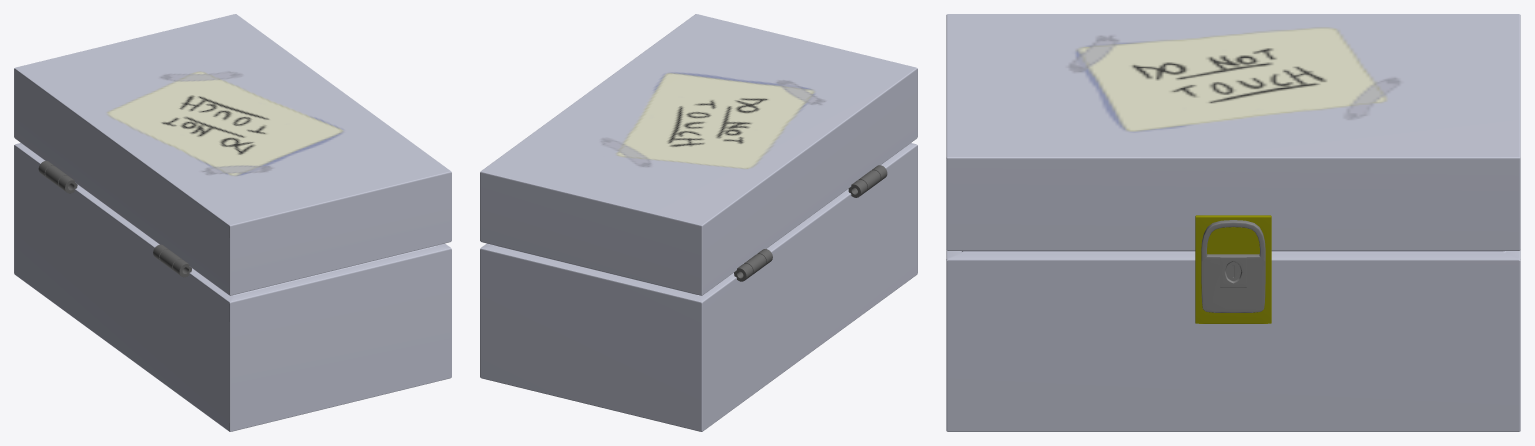
File: cajaCerada.fbx
3 views of the same model, side by side, from view 1: azimuth 30°, elevation 25°; view 2: azimuth 150°, elevation 25°; view 3: azimuth 270°, elevation 25° (orthographic). The views are drawn at different scales.
Visible parts, largest first — view 1: cajaCerrada; view 2: cajaCerrada; view 3: cajaCerrada.
Boxes of the visible parts, box(x1,y1,x2,y2) form: cajaCerrada: box(14, 14, 451, 431); cajaCerrada: box(480, 14, 917, 431); cajaCerrada: box(946, 14, 1520, 431).
Bounding box in the file's own units: 68.4 × 56 × 106.
4 materials, 1 textured.
